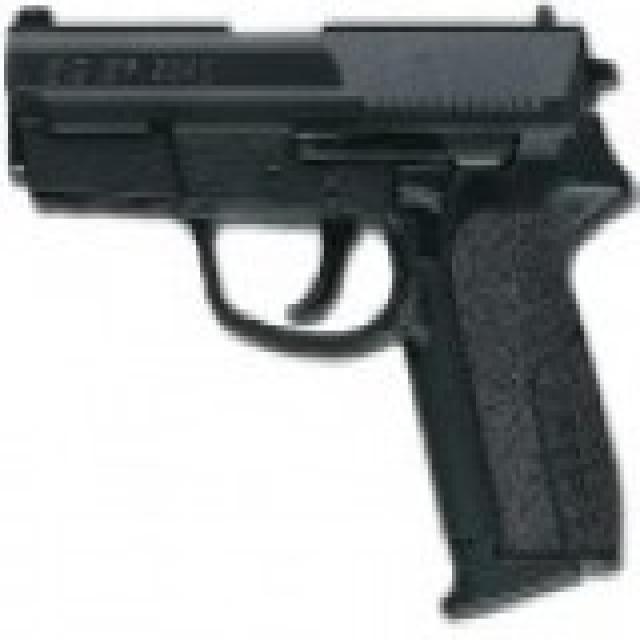gun: (4, 0, 624, 613)
